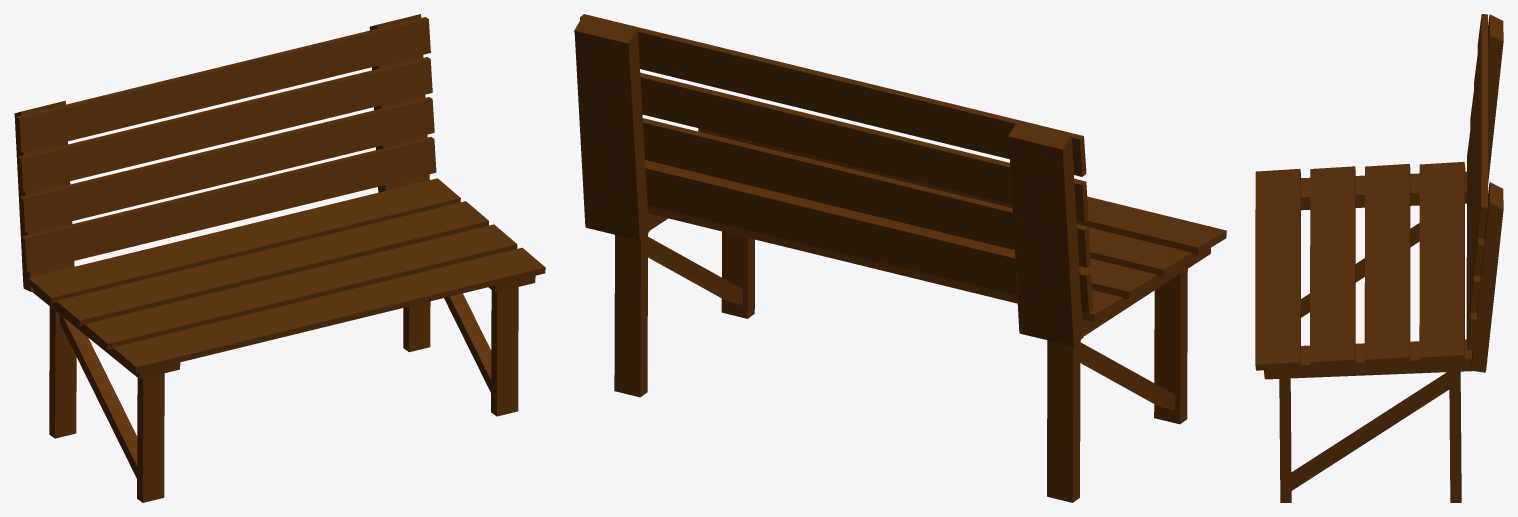
Rendered from banc_1.FBX.
3 views of the same model, side by side, from view 1: azimuth 30°, elevation 25°; view 2: azimuth 150°, elevation 25°; view 3: azimuth 270°, elevation 25° (orthographic). The views are drawn at different scales.
Parts seen in each view (by area): view 1: Banc 1 High Poly001; view 2: Banc 1 High Poly001; view 3: Banc 1 High Poly001.
Boxes of the visible parts, bbox=[...] form: Banc 1 High Poly001: bbox=[14, 14, 545, 502]; Banc 1 High Poly001: bbox=[574, 14, 1226, 502]; Banc 1 High Poly001: bbox=[1255, 14, 1503, 502].
Bounding box in the file's own units: 147 × 108 × 79.58.
